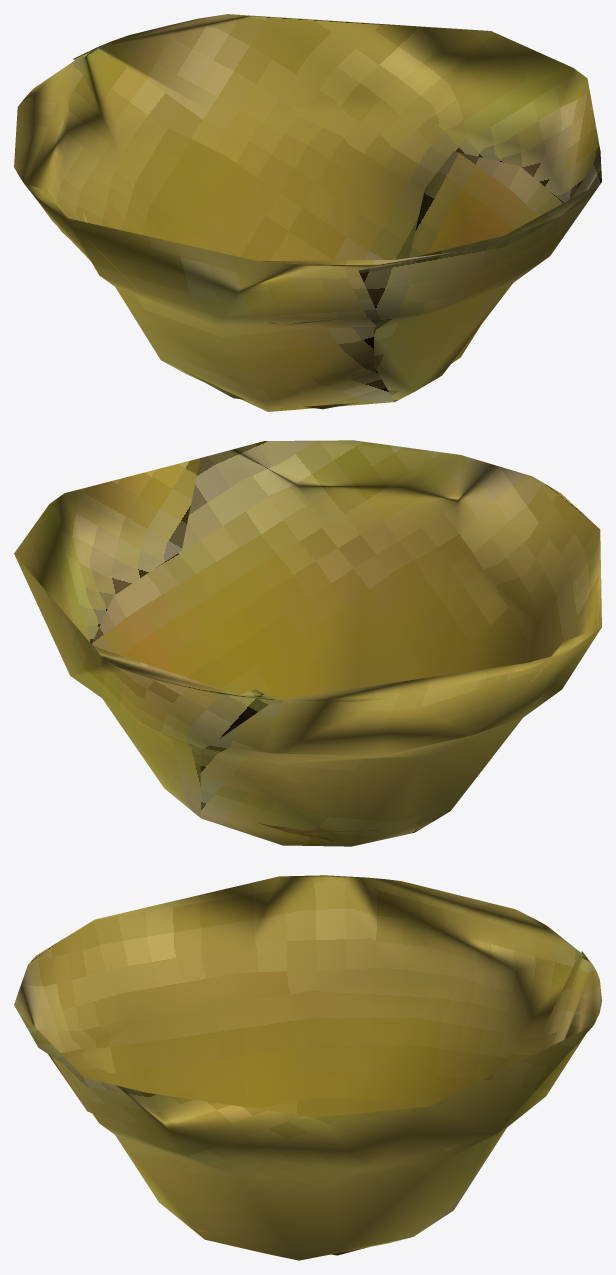
Rendered from Ecoforms_Plant_Bowl_Atlas_Low-low.glb.
3 renders of one model, top to bottom at view 1: azimuth 30°, elevation 25°; view 2: azimuth 150°, elevation 25°; view 3: azimuth 270°, elevation 25°, orthographic. The views are drawn at different scales.
Visible parts, largest first — view 1: Ecoforms_Plant_Bowl_Atlas_Low; view 2: Ecoforms_Plant_Bowl_Atlas_Low; view 3: Ecoforms_Plant_Bowl_Atlas_Low.
Boxes of the visible parts, left/top/right/bottom form: Ecoforms_Plant_Bowl_Atlas_Low: left=14, top=14, right=601, bottom=411; Ecoforms_Plant_Bowl_Atlas_Low: left=14, top=440, right=601, bottom=846; Ecoforms_Plant_Bowl_Atlas_Low: left=14, top=875, right=601, bottom=1260.
Bounding box in the file's own units: 0.3217 × 0.1308 × 0.3217.
1 material, 1 textured.
